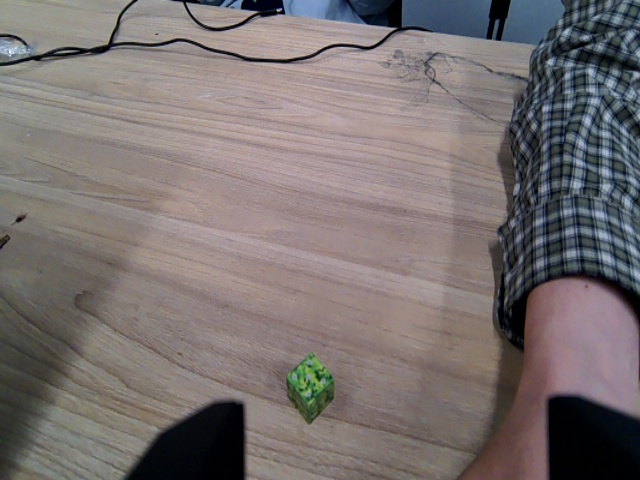grass: (286, 356, 335, 426)
